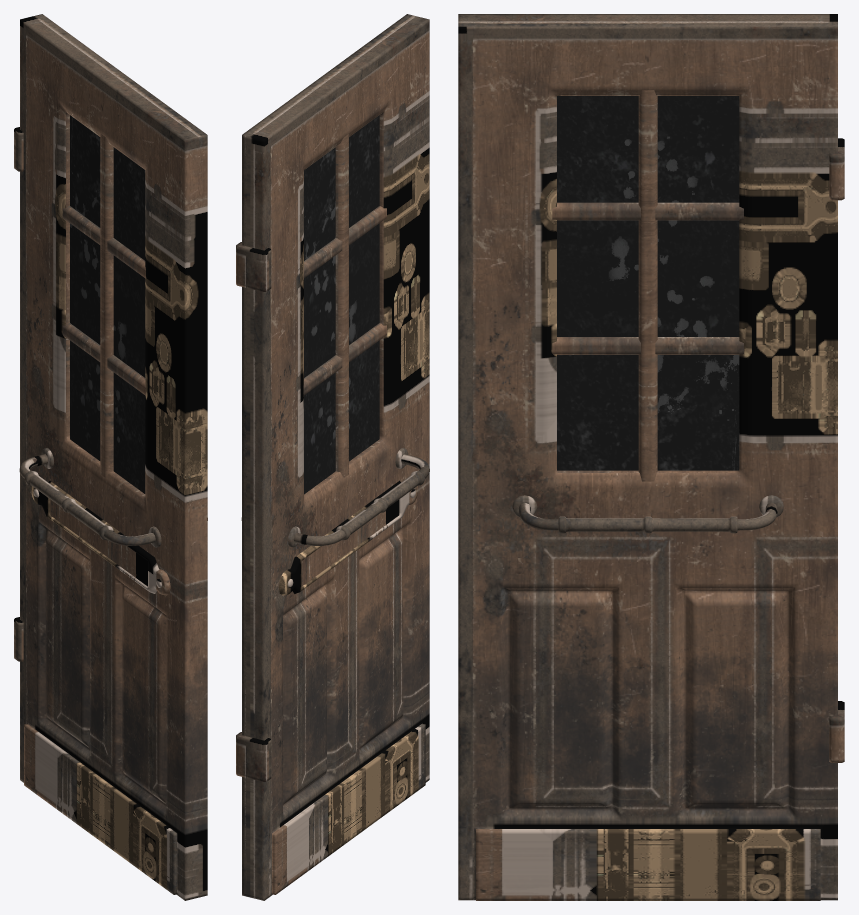
Rendered from SM_Door03_2_LOD0.glb.
3 renders of one model, left to right at view 1: azimuth 30°, elevation 25°; view 2: azimuth 150°, elevation 25°; view 3: azimuth 270°, elevation 25°, orthographic. The views are drawn at different scales.
Parts seen in each view (by area): view 1: SM_Door03_2_LOD0; view 2: SM_Door03_2_LOD0; view 3: SM_Door03_2_LOD0.
Part boxes in pixels (<box>): SM_Door03_2_LOD0: <box>14,14,207,900</box>; SM_Door03_2_LOD0: <box>236,14,429,900</box>; SM_Door03_2_LOD0: <box>458,14,844,900</box>.
Bounding box in the file's own units: 0.3683 × 2.61 × 1.05.
2 materials, 2 textured.
